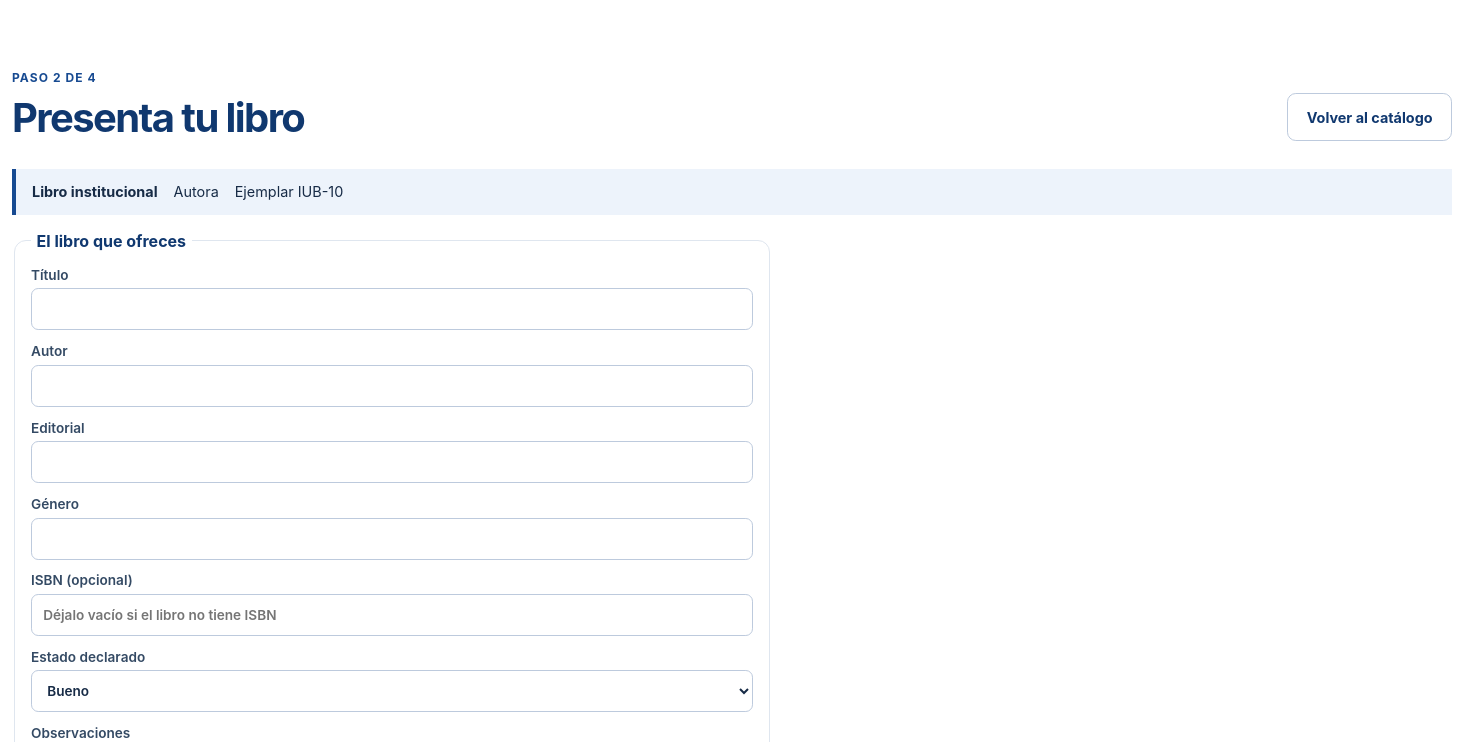
Test: formulario de libro ofrecido con fotografías › no crea el borrador si faltan portada o páginas interiores
The width and height of the screenshot is (1464, 742).
Type "Libro ofrecido" into the field labelled "Título" at (392, 309), box [31,288,753,330]
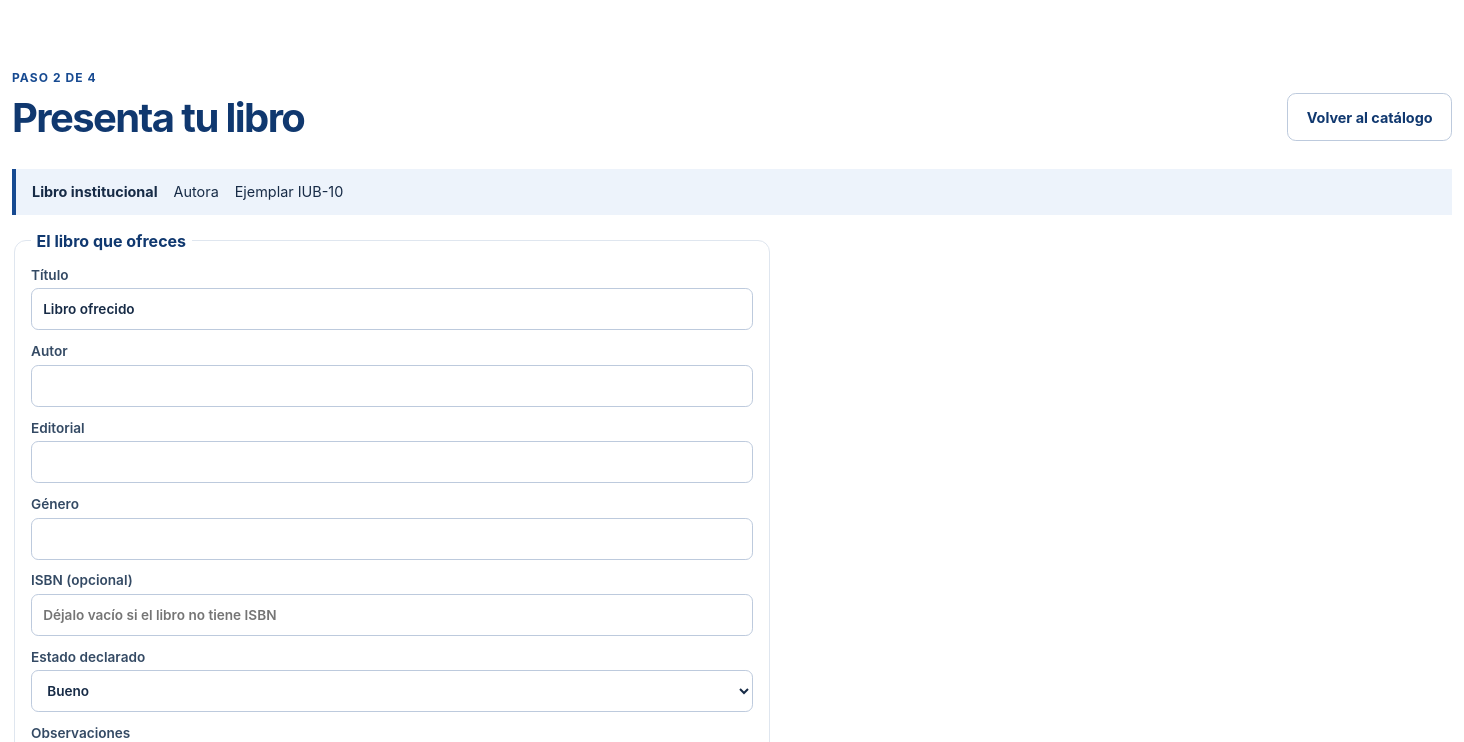
Type "Autor ofrecido" into the field labelled "Autor" at (392, 386), box [31,365,753,407]
(page scrolled)
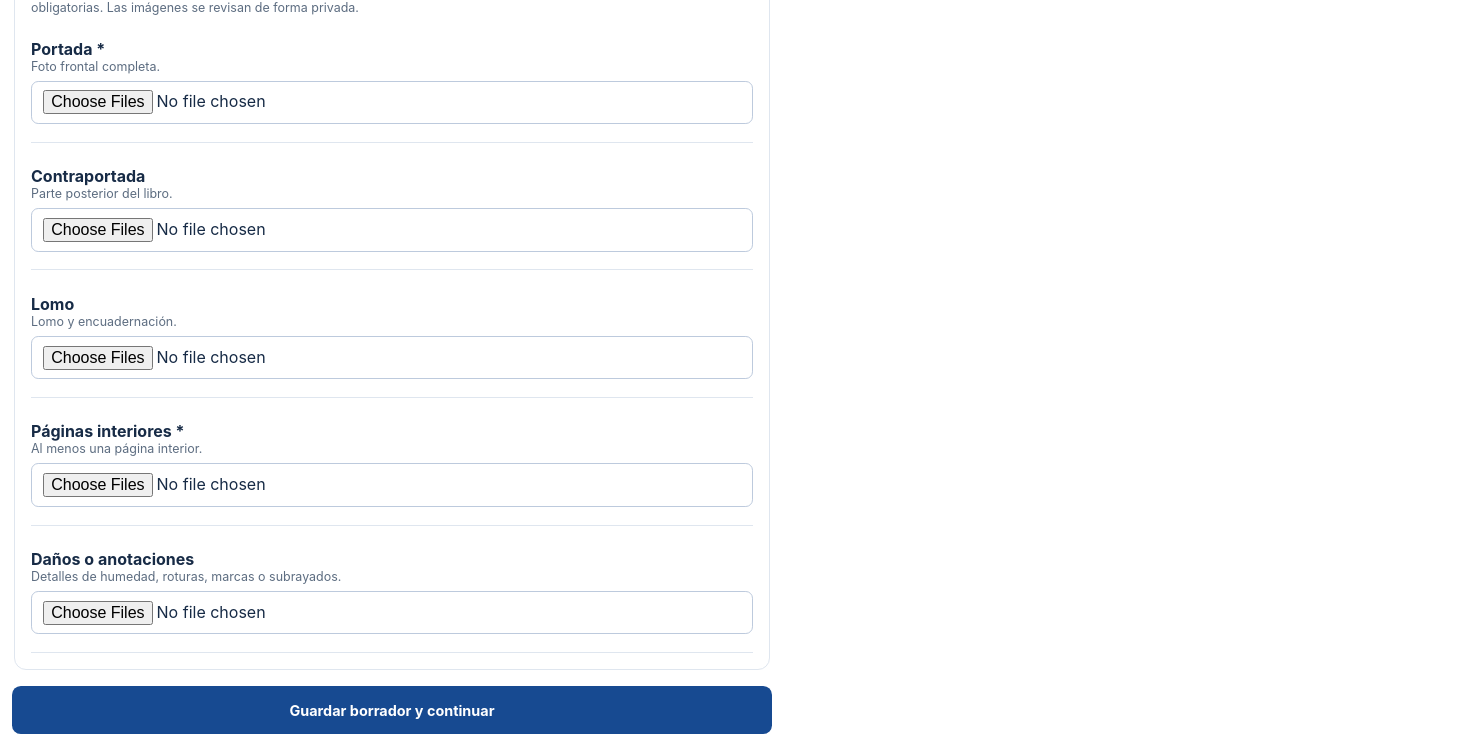
Click the button "Guardar borrador y continuar" at (392, 710), box [12,686,772,734]
(page scrolled)
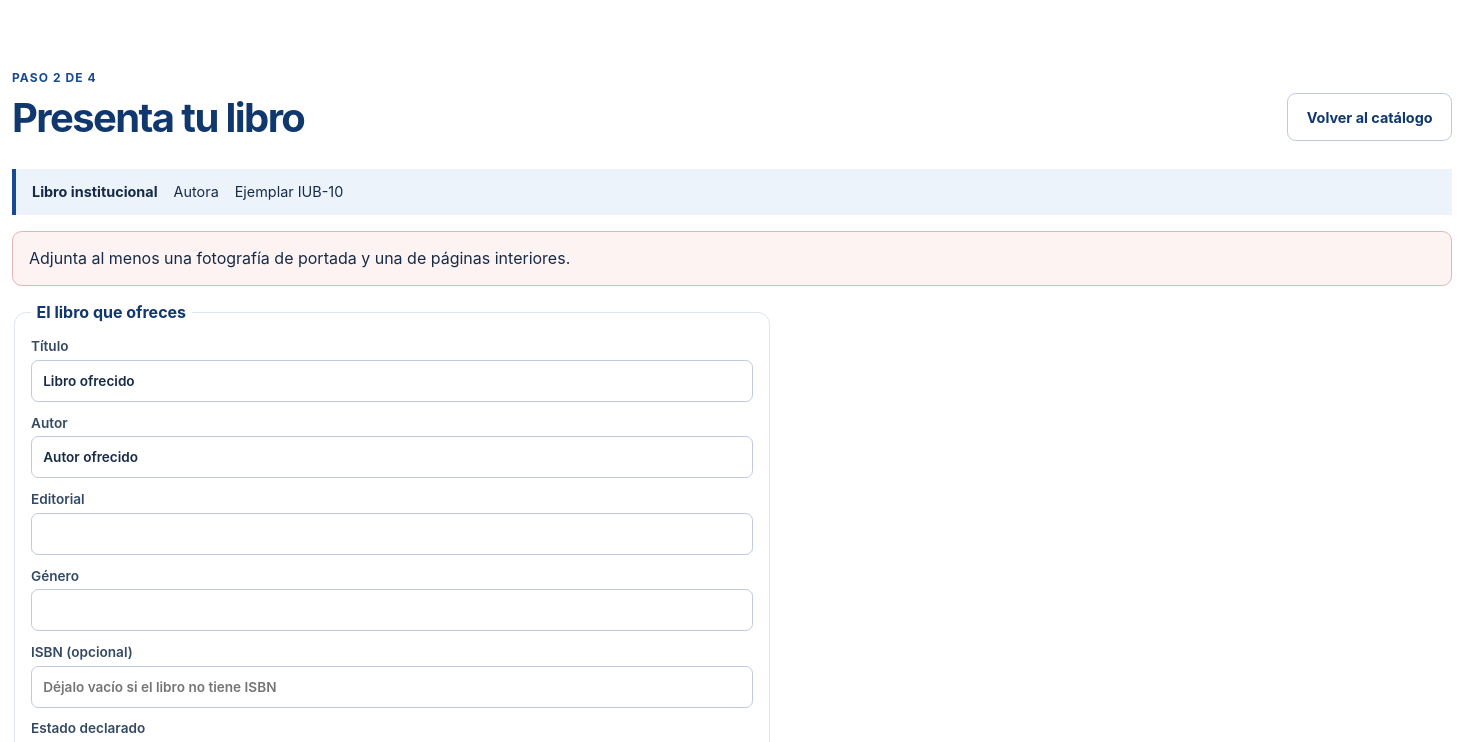
Now the message shows "portada y una de páginas interiores", box [29,248,570,268]
